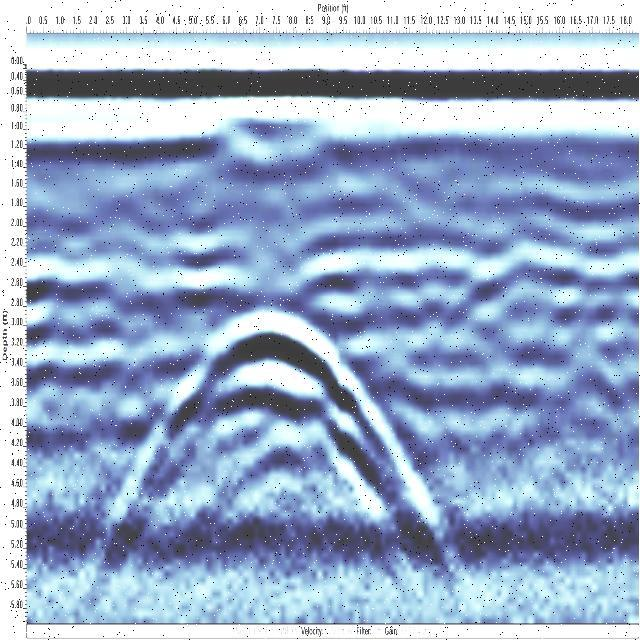hyperbola: (78, 296, 464, 586)
